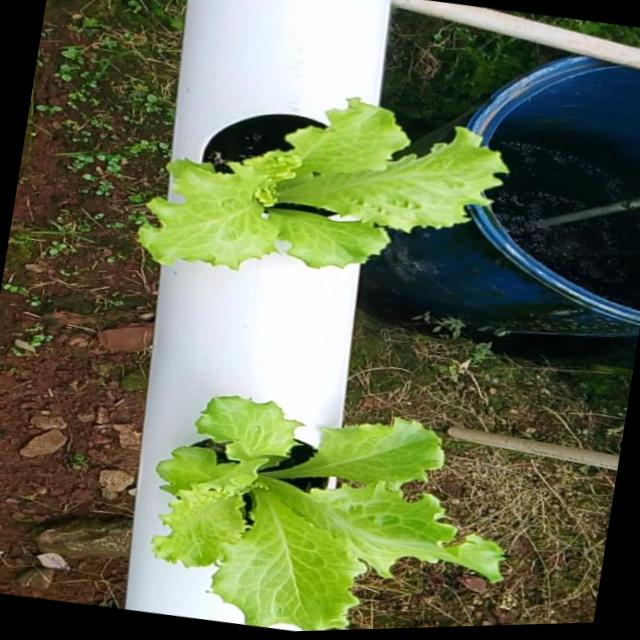Baby: (157, 380, 510, 617), (152, 77, 527, 250)
